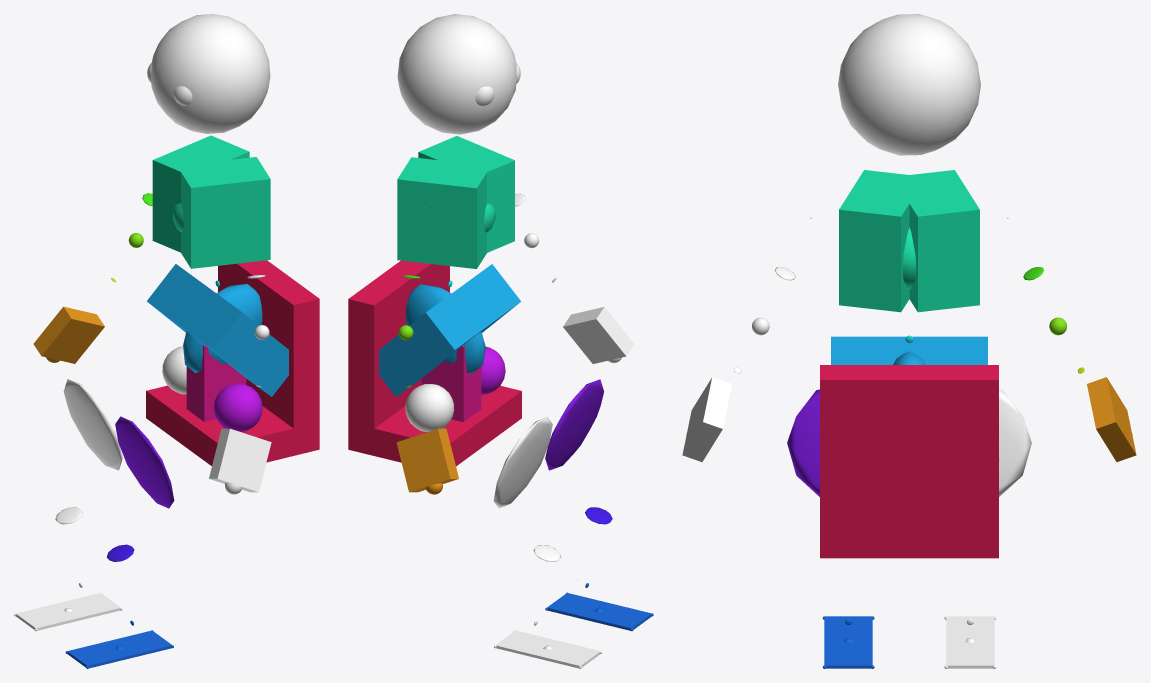
The picture shows the model from 3 angles, left to right: view 1: azimuth 30°, elevation 25°; view 2: azimuth 150°, elevation 25°; view 3: azimuth 270°, elevation 25°; orthographic projection. The views are drawn at different scales.
Parts seen in each view (by area): view 1: chest (×2), head, lap_belt_1 (×2), chair_back, chair, l_hand, l_thigh, r_thigh, r_hand, waist, r_foot, l_foot (+2 smaller); view 2: chest (×2), head, lap_belt_1 (×2), chair_back, chair, r_hand, r_thigh, l_thigh, l_hand, waist, r_foot, l_foot (+2 smaller); view 3: chair_back, chest (×2), head, chair, lap_belt_1, l_foot, r_foot, r_hand, l_hand, l_thigh, r_thigh.
Part boxes in pixels (x1,y1,x2,y2): chest (×2): (152, 135, 270, 268); head: (151, 14, 270, 133); lap_belt_1 (×2): (147, 264, 288, 396); chair_back: (218, 260, 319, 441); chair: (146, 385, 319, 465); l_hand: (209, 428, 271, 492); l_thigh: (115, 416, 174, 508); r_thigh: (63, 379, 122, 470); r_hand: (33, 306, 104, 363); waist: (186, 345, 246, 421); r_foot: (16, 592, 120, 630); l_foot: (67, 630, 172, 668); chest (×2): (397, 136, 514, 268); head: (397, 14, 516, 134); lap_belt_1 (×2): (379, 264, 520, 396); chair_back: (348, 260, 449, 438); chair: (348, 386, 521, 466); r_hand: (396, 428, 458, 492); r_thigh: (493, 416, 552, 508); l_thigh: (545, 379, 603, 470); l_hand: (563, 307, 634, 363); waist: (421, 346, 481, 422); r_foot: (495, 630, 600, 668); l_foot: (547, 593, 651, 630); chair_back: (820, 365, 998, 541); chest (×2): (839, 170, 979, 312); head: (838, 14, 980, 155); chair: (820, 526, 998, 558); lap_belt_1: (831, 336, 987, 364); l_foot: (824, 616, 872, 668); r_foot: (946, 616, 994, 668); r_hand: (1087, 377, 1136, 461); l_hand: (682, 377, 731, 461); l_thigh: (787, 389, 819, 496); r_thigh: (999, 389, 1031, 496).
Size of what is drawn, in the model's own units: 0.354 by 0.5081 by 0.8602.
